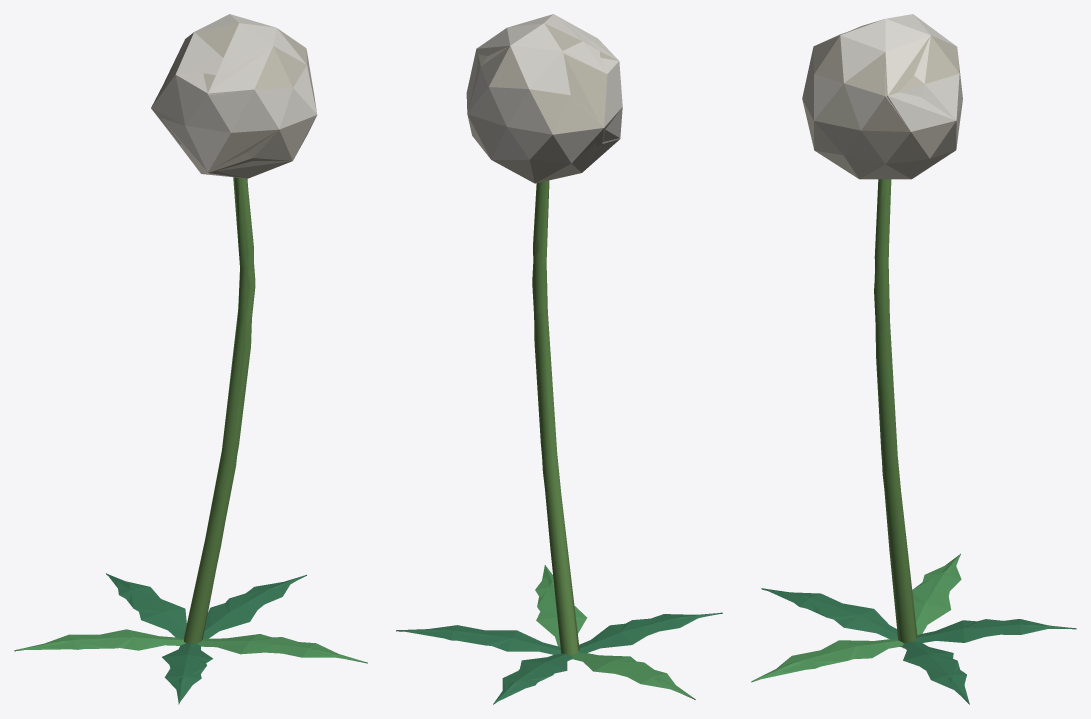
File: dandelion_puff.glb
3 renders of one model, left to right at view 1: azimuth 30°, elevation 25°; view 2: azimuth 150°, elevation 25°; view 3: azimuth 270°, elevation 25°, orthographic. The views are drawn at different scales.
Visible parts, largest first — view 1: body__far, petal_white_nl, leaf_nl, stem; view 2: body__far, petal_white_nl, leaf_nl, stem; view 3: body__far, leaf_nl, petal_white_nl, stem.
Boxes of the visible parts, bbox=[...] form: body__far: bbox=[15, 14, 360, 703]; petal_white_nl: bbox=[151, 14, 313, 178]; leaf_nl: bbox=[14, 573, 367, 704]; stem: bbox=[183, 177, 253, 643]; body__far: bbox=[397, 14, 717, 703]; petal_white_nl: bbox=[467, 14, 622, 172]; leaf_nl: bbox=[396, 565, 722, 704]; stem: bbox=[533, 180, 578, 655]; body__far: bbox=[753, 19, 1071, 702]; leaf_nl: bbox=[751, 553, 1076, 704]; petal_white_nl: bbox=[841, 14, 959, 131]; stem: bbox=[874, 179, 915, 647].
Bounding box in the file's own units: 9.68 × 19.36 × 8.85.
